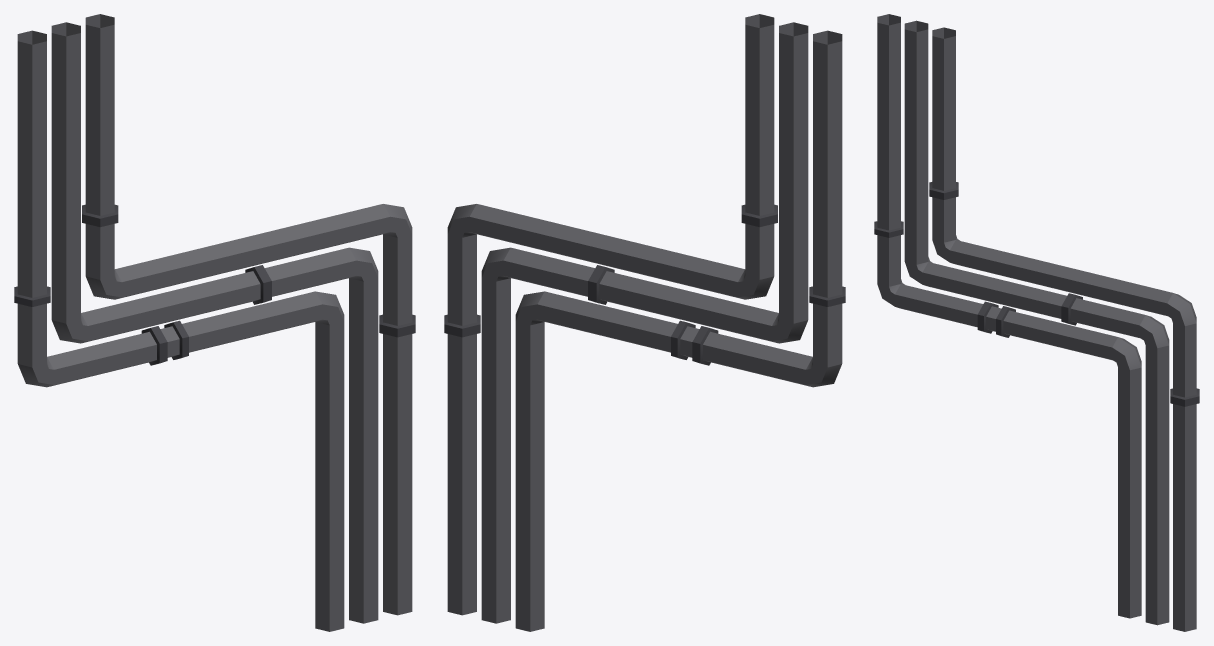
File: SM_Prop_Detail_Pipes_02.fbx
3 renders of one model, left to right at view 1: azimuth 30°, elevation 25°; view 2: azimuth 150°, elevation 25°; view 3: azimuth 330°, elevation 25°, orthographic. The views are drawn at different scales.
Parts seen in each view (by area): view 1: SM_Prop_Detail_Pipes_02_LOD0; view 2: SM_Prop_Detail_Pipes_02_LOD0; view 3: SM_Prop_Detail_Pipes_02_LOD0.
Boxes of the visible parts, x1,y1,x2,y2 form: SM_Prop_Detail_Pipes_02_LOD0: (14, 14, 415, 631); SM_Prop_Detail_Pipes_02_LOD0: (444, 14, 845, 631); SM_Prop_Detail_Pipes_02_LOD0: (874, 14, 1199, 631).
Bounding box in the file's own units: 18.71 × 239 × 375.
1 material, 1 textured.
